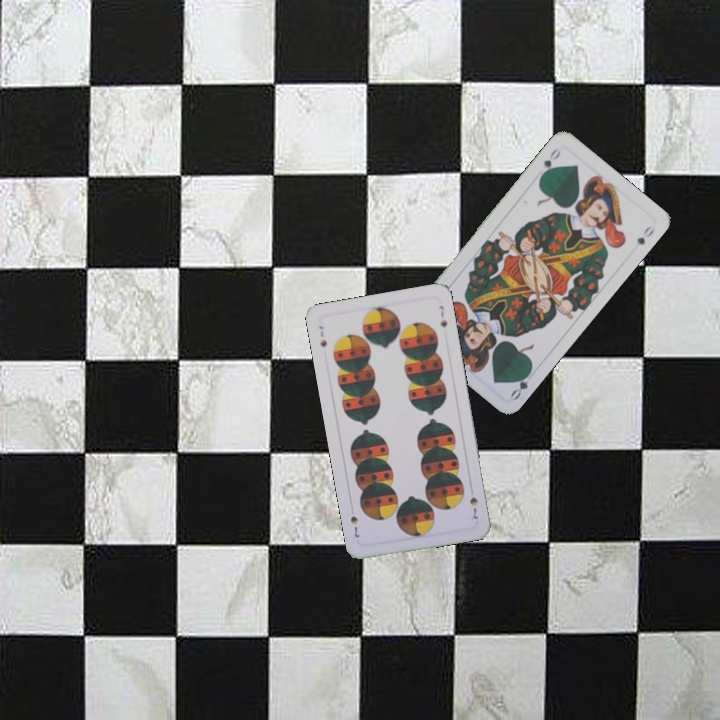GO: (507, 365, 535, 403), (536, 144, 564, 180)
S7: (465, 493, 480, 523), (314, 322, 330, 350)
